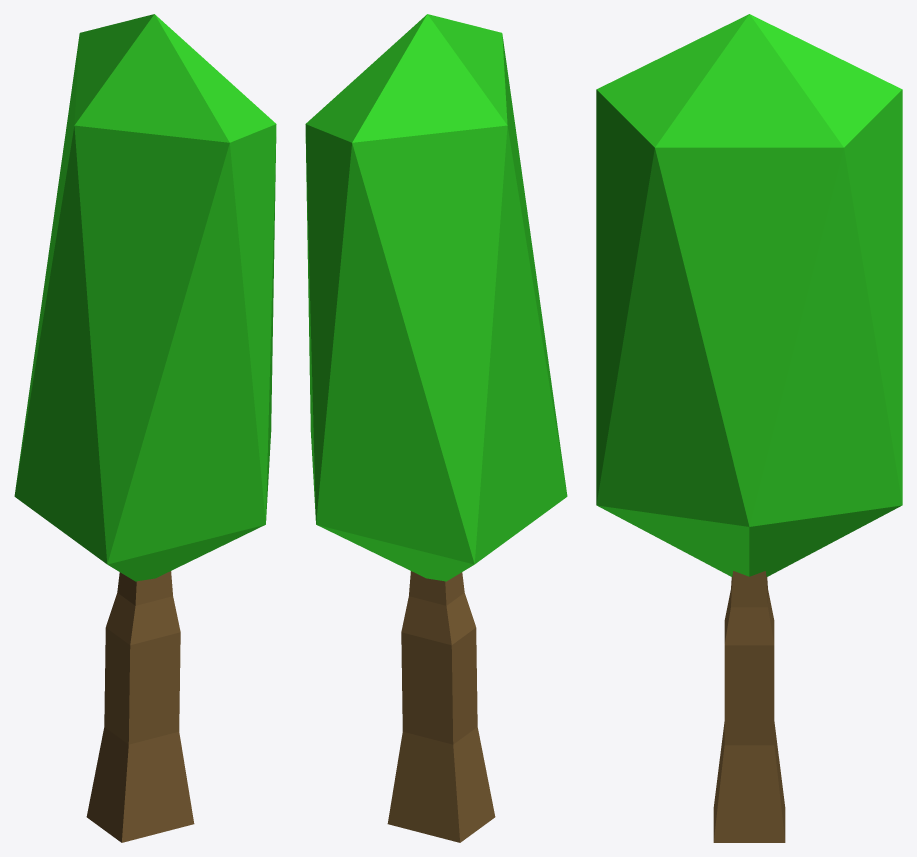
File: Tree1.fbx
The picture shows the model from 3 angles, left to right: view 1: azimuth 30°, elevation 25°; view 2: azimuth 150°, elevation 25°; view 3: azimuth 270°, elevation 25°; orthographic projection.
Visible parts, largest first — view 1: Tree.003; view 2: Tree.003; view 3: Tree.003.
Part boxes in pixels (bbox=[...]): Tree.003: bbox=[14, 14, 276, 842]; Tree.003: bbox=[305, 14, 567, 842]; Tree.003: bbox=[596, 14, 902, 842].
Size of the model in its own units: 156 by 570 by 193.
